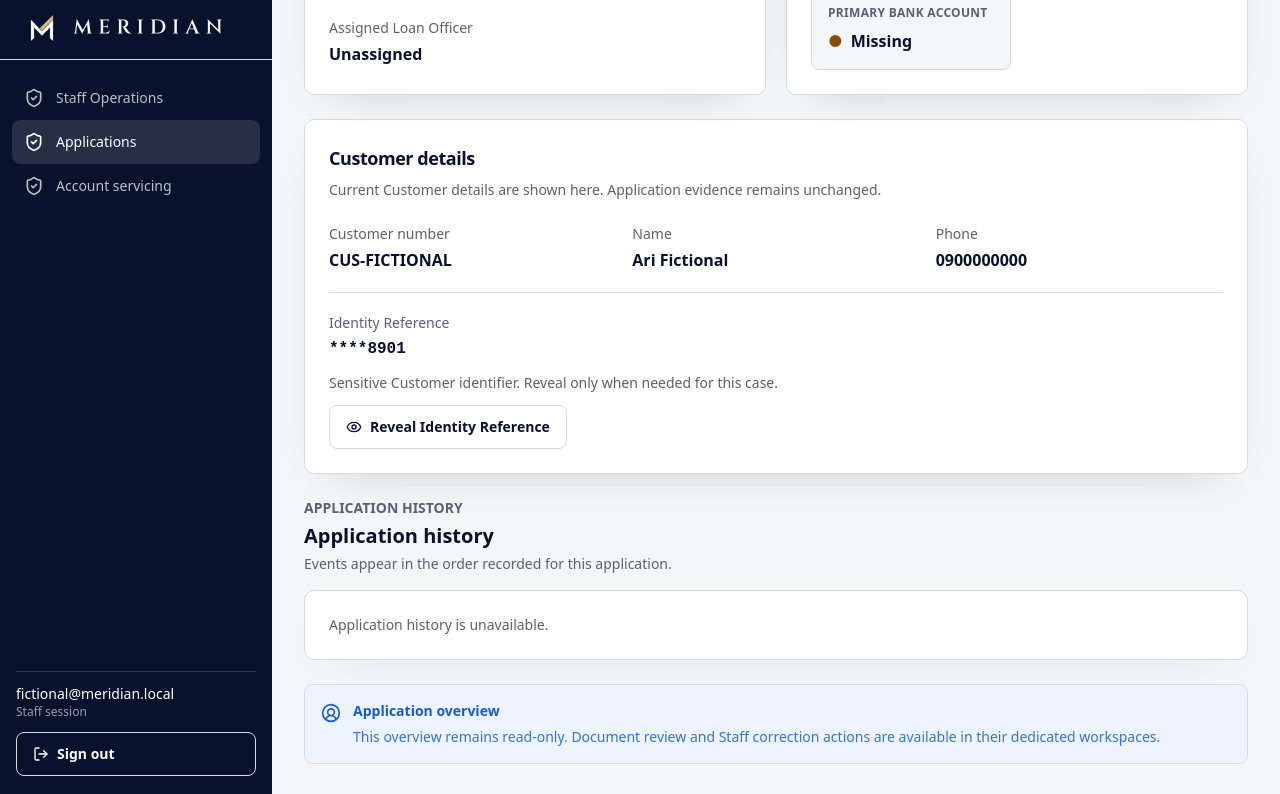
Test case: Application Case protected Identity Reference › handles controlled 403 safely
(page scrolled)
What coordinates should you click on to do the following:
click the button "Reveal Identity Reference"
I would click on:
 (448, 427)
Its box is [329, 405, 567, 449].
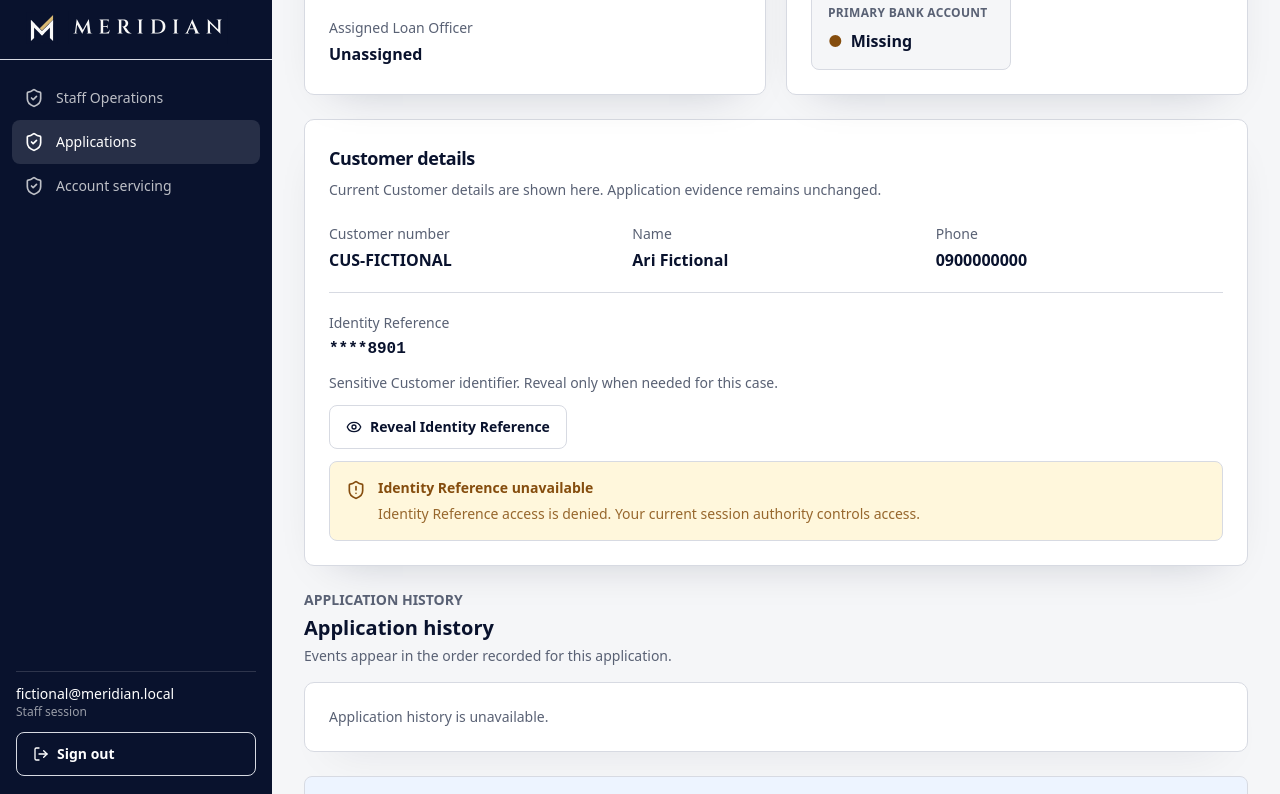
Check: the text "access is denied" is shown, box [378, 504, 920, 523]
